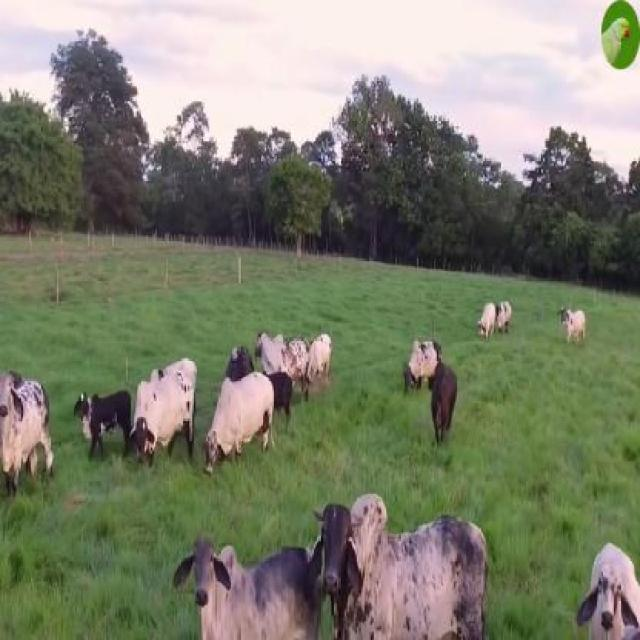Cow: (206, 372, 274, 472), (74, 392, 132, 462)
